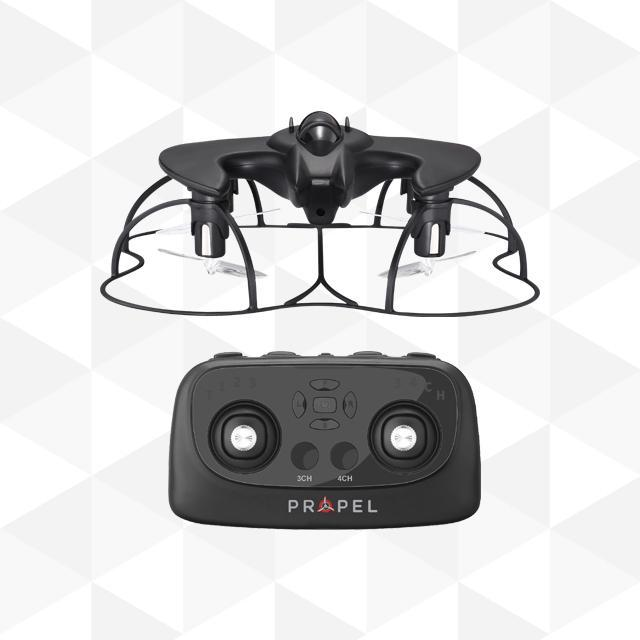drone: (97, 135, 542, 315)
